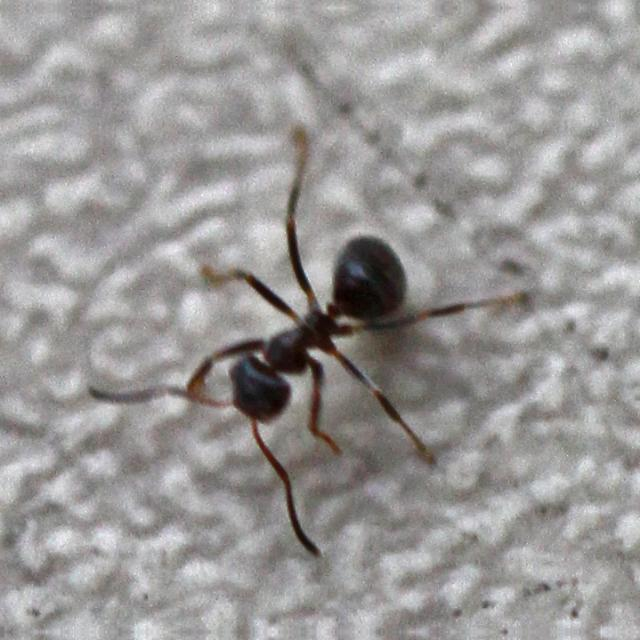Lasius: (167, 179, 439, 453)
